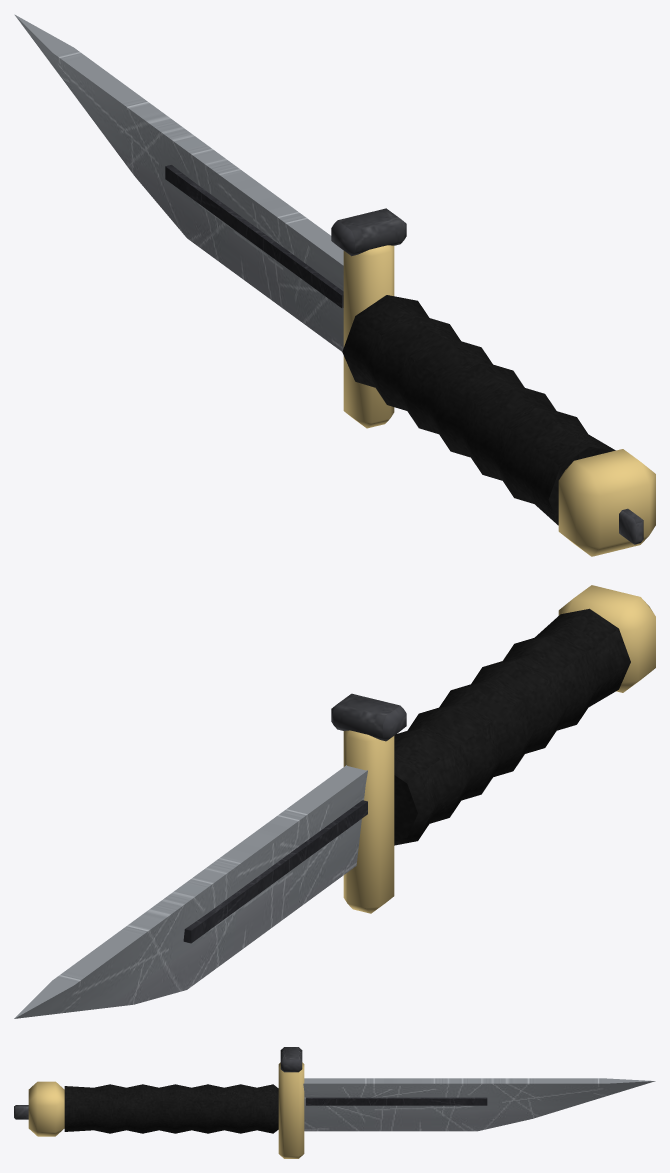
The model's file is knife.glb.
3 views of the same model, one above another, from view 1: azimuth 30°, elevation 25°; view 2: azimuth 150°, elevation 25°; view 3: azimuth 270°, elevation 25° (orthographic). The views are drawn at different scales.
Visible parts, largest first — view 1: body; view 2: body; view 3: body.
Part boxes in pixels (x1,y1,x2,y2): body: (14,14,655,556); body: (14,585,655,1018); body: (14,1047,655,1158).
Size of the model in its own units: 0.029 by 0.063 by 0.354.
Materials: 5 (4 with a texture image).
